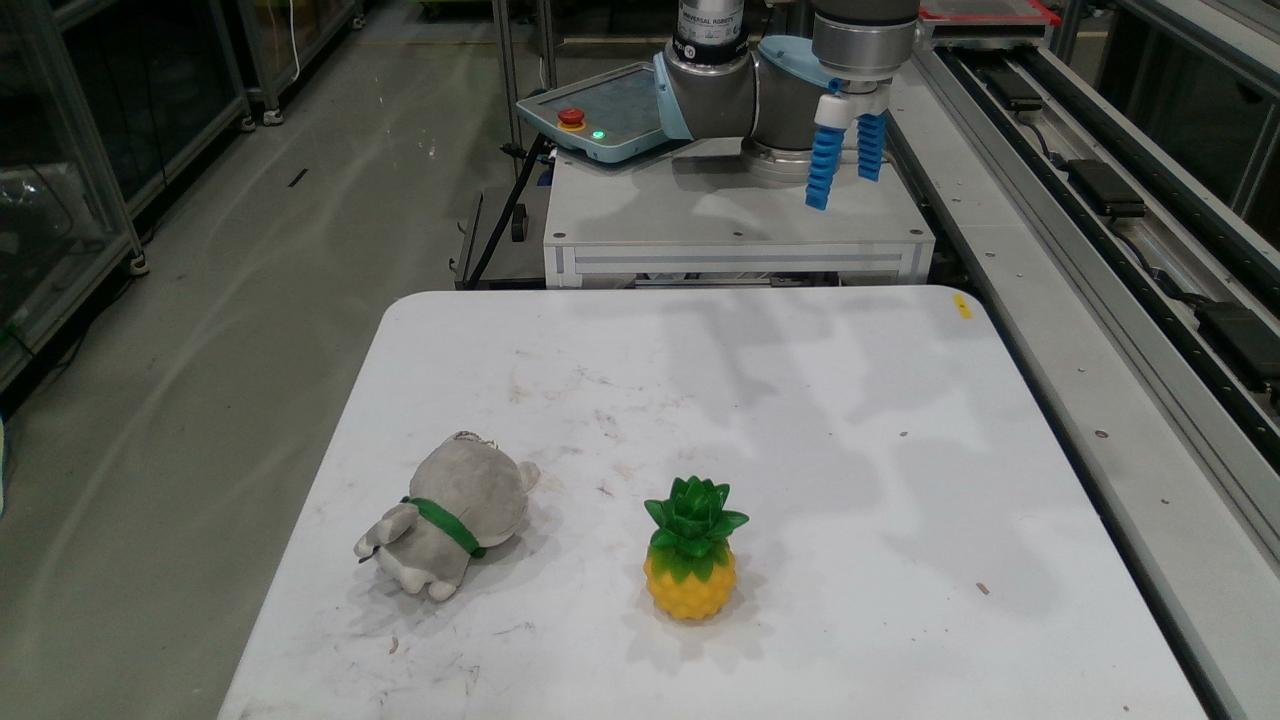UR5: (656, 0, 848, 179), (814, 1, 920, 125)
gripper_left: (808, 127, 842, 208)
gripper_right: (858, 112, 884, 179)
target: (356, 432, 536, 601), (648, 476, 746, 619)
